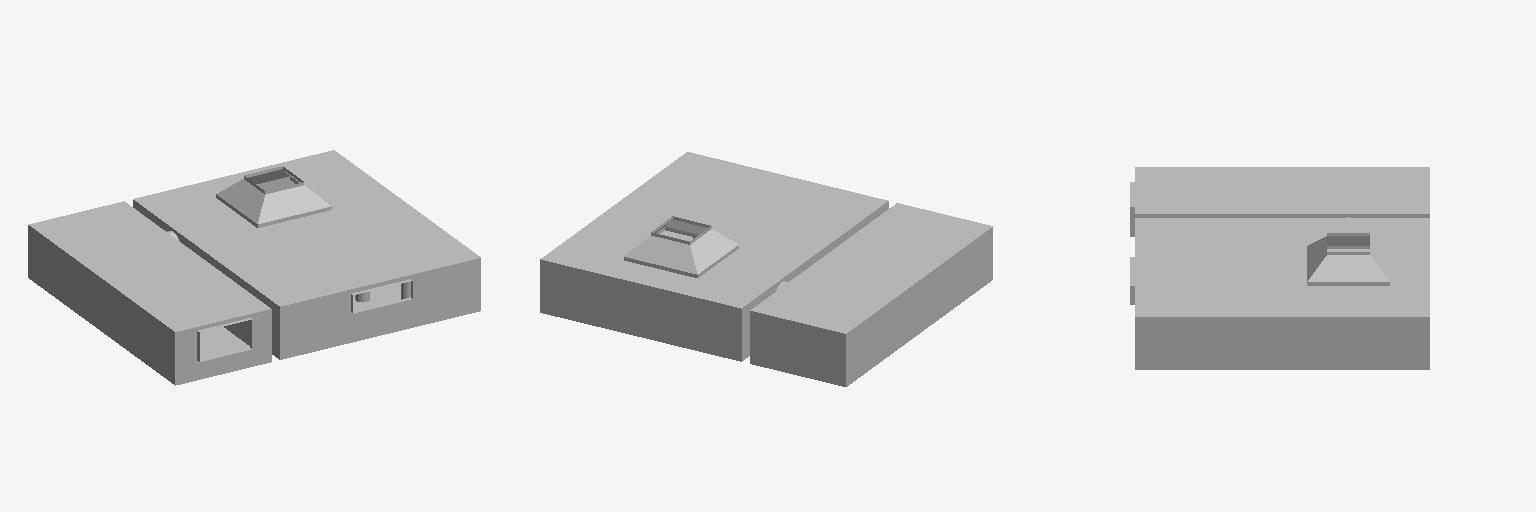
The model's file is SSCTTestScene2.obj.
3 renders of one model, left to right at view 1: azimuth 30°, elevation 25°; view 2: azimuth 150°, elevation 25°; view 3: azimuth 270°, elevation 25°, orthographic.
Parts seen in each view (by area): view 1: Cube_Room; view 2: Cube_Room; view 3: Cube_Room.
Part boxes in pixels (x1,y1,x2,y2): Cube_Room: (28,150,480,385); Cube_Room: (540,152,992,386); Cube_Room: (1130,167,1429,369).
Size of the model in its own units: 12 by 2.95 by 10.16.